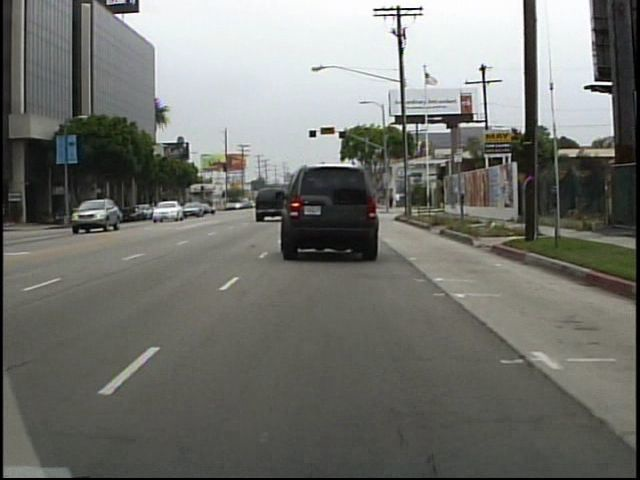person: (395, 187, 404, 211), (387, 189, 395, 210)
